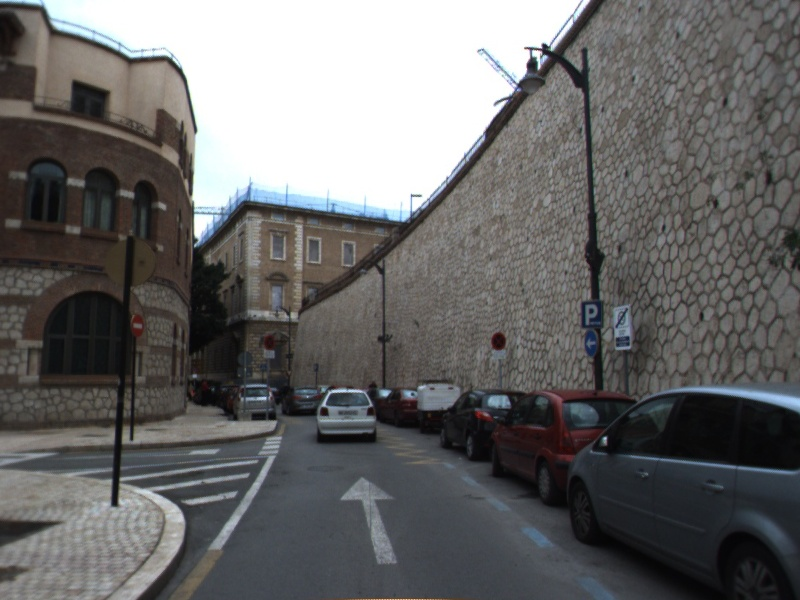STRAIGHT: (338, 475, 399, 566)
